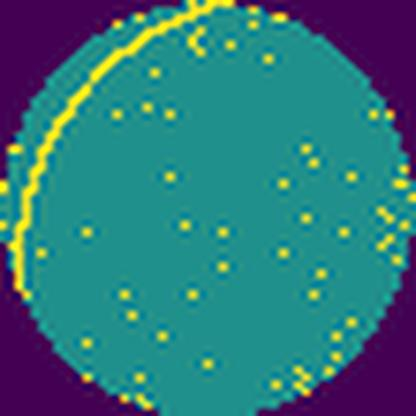Scratch: (5, 0, 240, 306)
